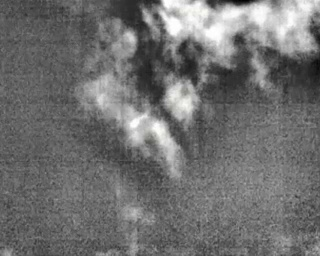AIRPLANE: (132, 113, 145, 127)
